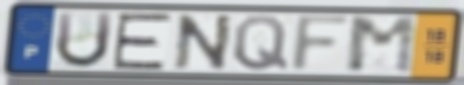E: (109, 11, 175, 71)
F: (287, 14, 357, 75)
M: (346, 15, 420, 76)
N: (173, 13, 236, 72)
Q: (231, 13, 291, 73)
U: (52, 10, 116, 71)
